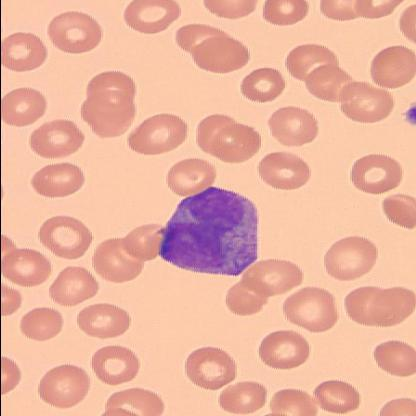Promyelocyte: (155, 186, 259, 276)
